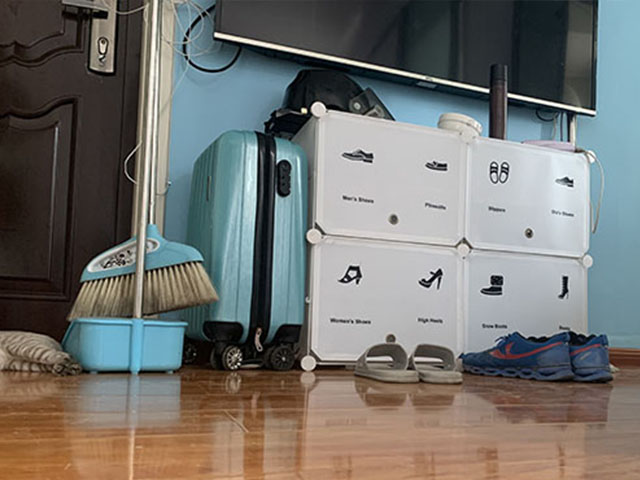slippers: (351, 339, 419, 385), (410, 339, 465, 385)
